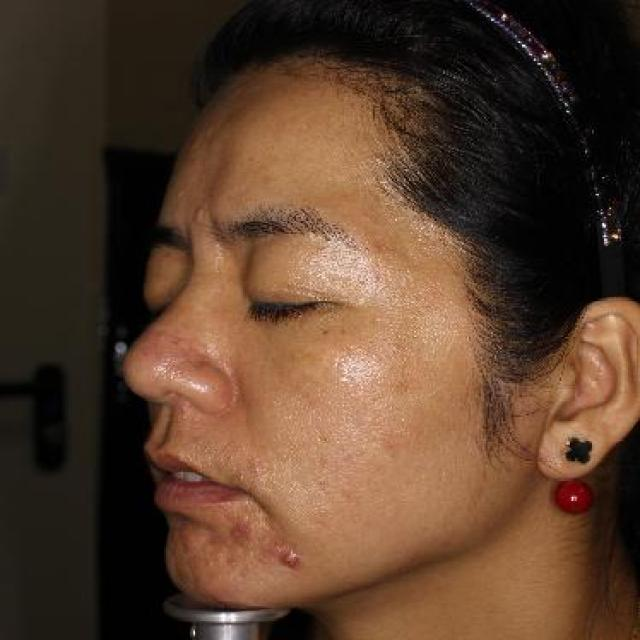Acne: (276, 543, 308, 574), (188, 202, 206, 228)
Whiteheads: (362, 150, 391, 167)
